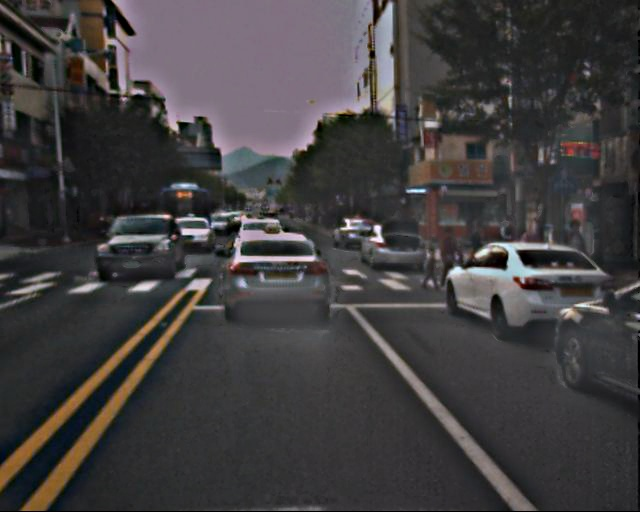person: (436, 228, 460, 287), (561, 222, 585, 281), (497, 216, 521, 273), (468, 222, 490, 281), (422, 247, 441, 293)
